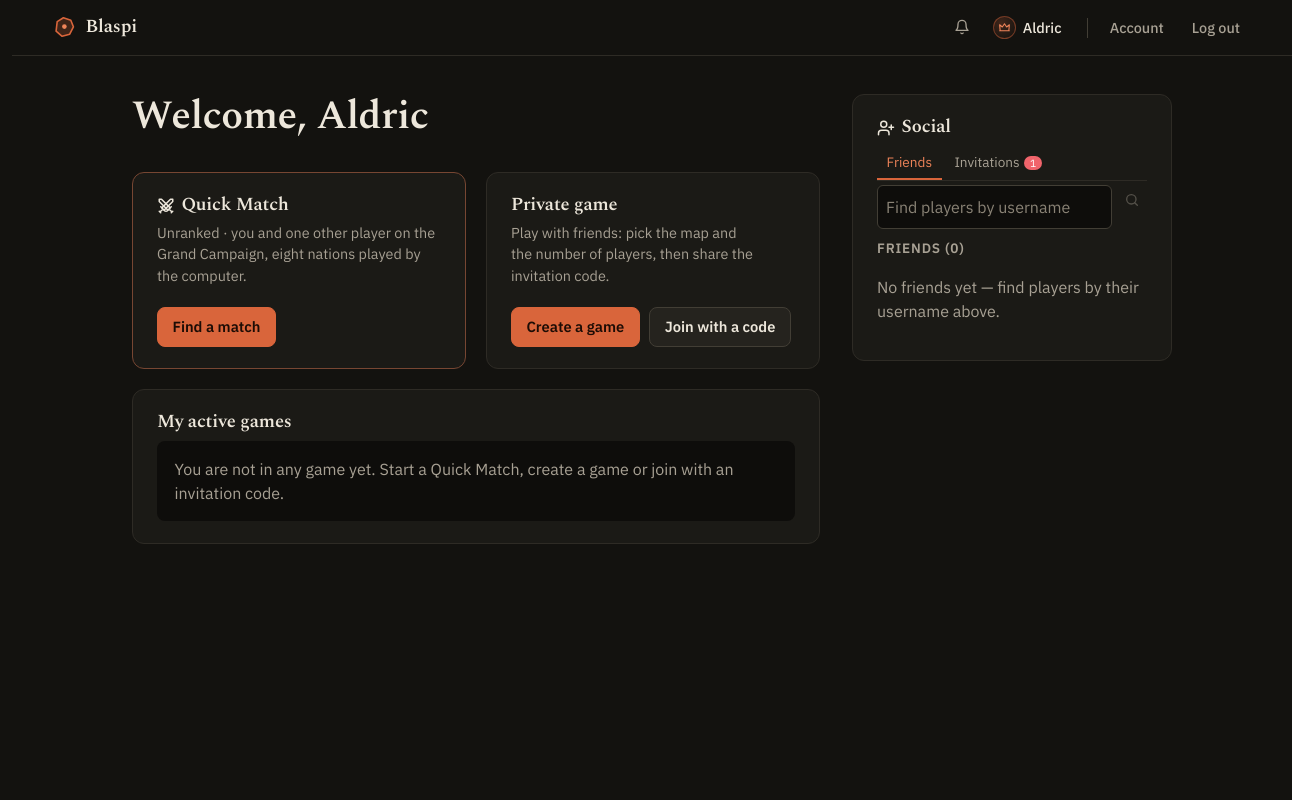
Test: Invitations and active games (13A) › joins an invited lobby from the invitations tab
Click the tab "Invitations1" at (998, 163), box [945, 146, 1052, 180]
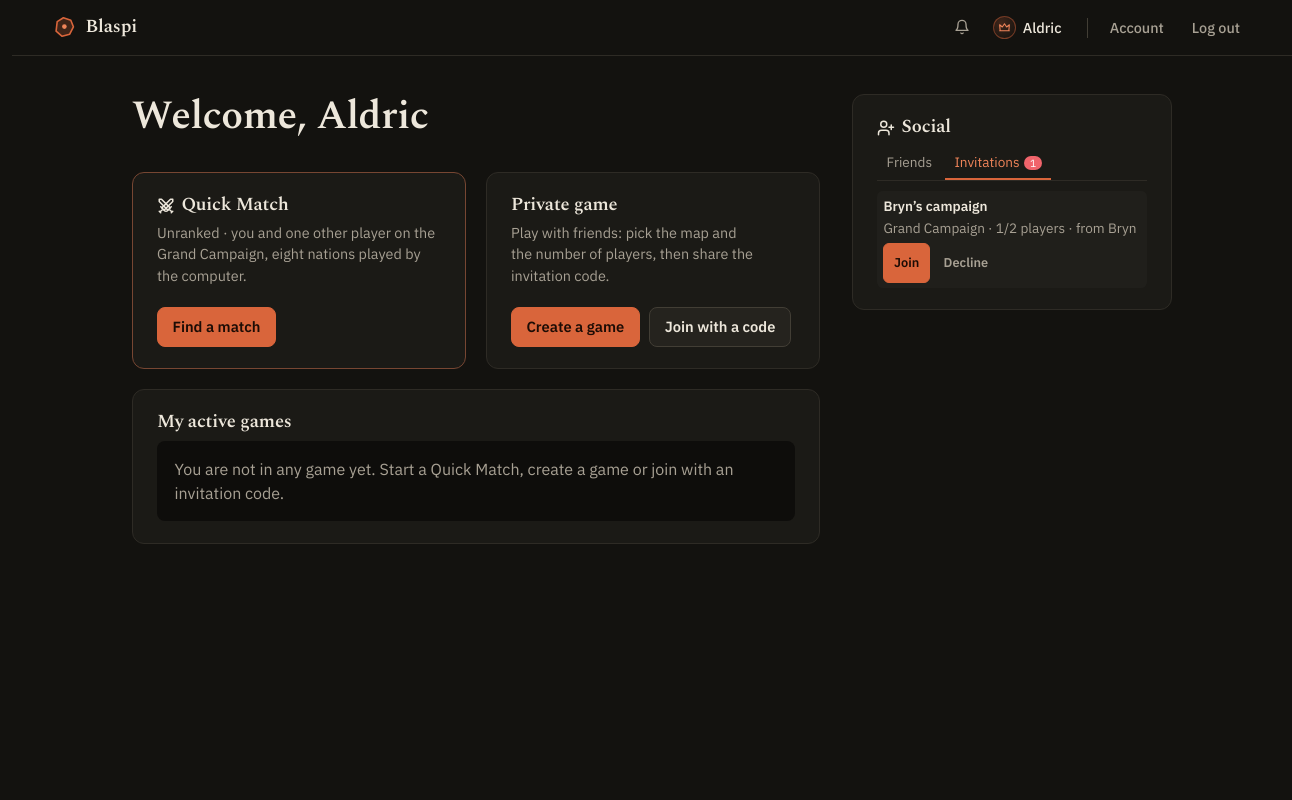
Result: the text "Grand Campaign · 1/2 players · from Bryn" is shown at [883, 218, 1136, 238]
Click the button with aria-label "Join Bryn’s campaign" at (907, 263), box [883, 243, 930, 283]
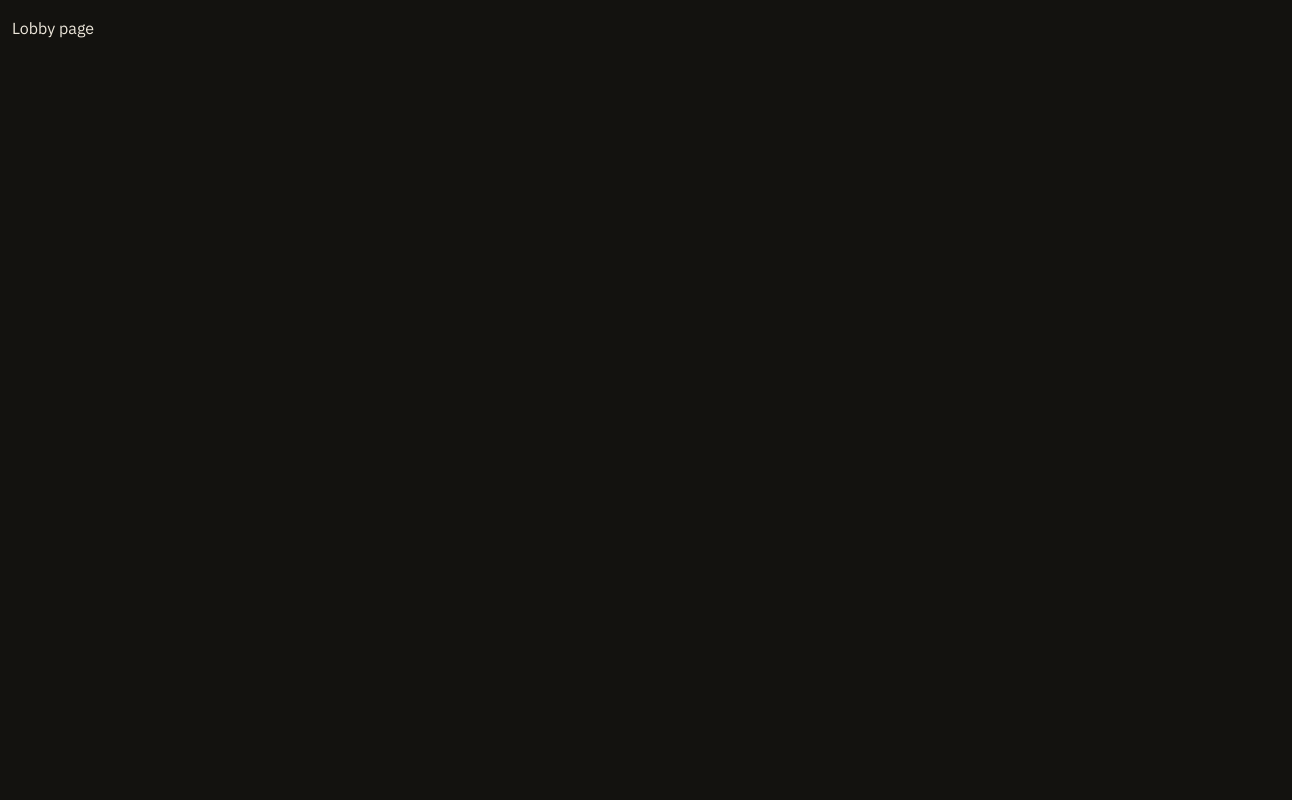
Result: the text "Lobby page" is shown at [12, 18, 94, 38]
